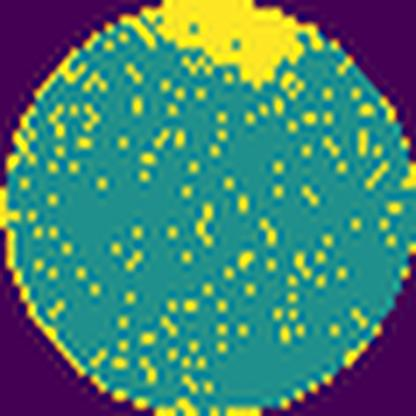Edge-Loc: (143, 0, 319, 90)
